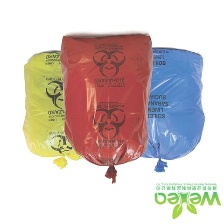plastic_bag: (56, 26, 158, 193), (16, 45, 95, 174), (140, 41, 207, 176)
